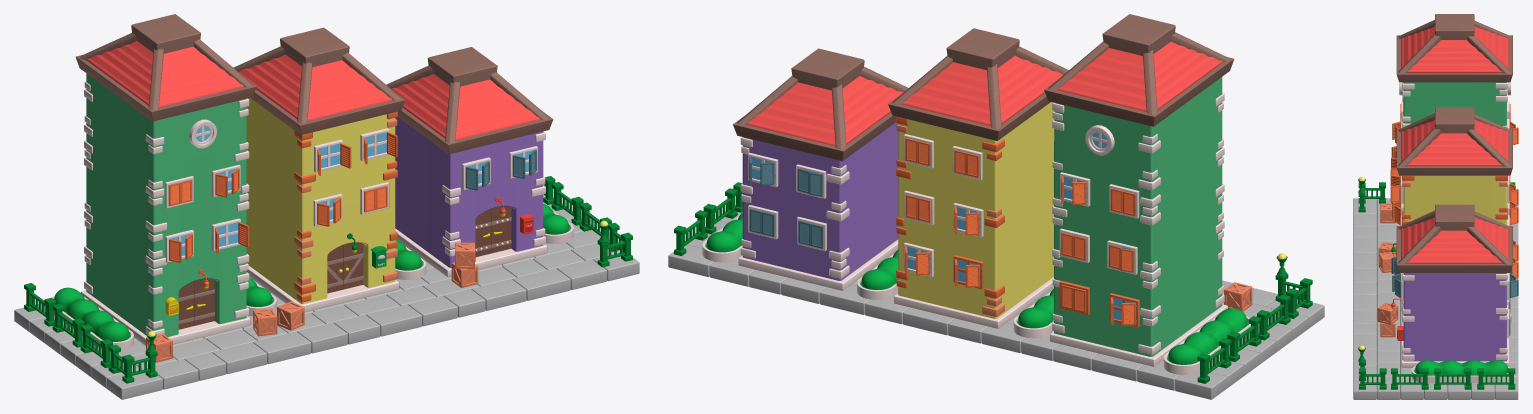
The model's file is City_Island_4.glb.
3 views of the same model, side by side, from view 1: azimuth 30°, elevation 25°; view 2: azimuth 150°, elevation 25°; view 3: azimuth 270°, elevation 25° (orthographic). The views are drawn at different scales.
Visible parts, largest first — view 1: City_4_House_1, City_4_House_3, City_4_House_2, City_4_Base_1, City_4_Plant_1, City_4_Fence_7, City_4_Fence_1, City_4_Plant_4, City_4_Plant_3, City_4_Plant_2, City_4_Fence_3, City_4_Fence_6 (+5 smaller); view 2: City_4_House_1, City_4_House_3, City_4_House_2, City_4_Base_1, City_4_Plant_1, City_4_Plant_3, City_4_Plant_4, City_4_Plant_2, City_4_Fence_7, City_4_Fence_2, City_4_Fence_5, City_4_Fence_6 (+3 smaller); view 3: City_4_House_2, City_4_House_3, City_4_House_1, City_4_Base_1, City_4_Plant_4, City_4_Fence_2, City_4_Fence_4, City_4_Fence_3, City_4_Fence_1, City_4_Fence_7, City_4_Box_1, City_4_Box_5 (+3 smaller).
Part boxes in pixels (x1,y1,x2,y2): City_4_House_1: (75, 14, 256, 345); City_4_House_3: (233, 27, 405, 312); City_4_House_2: (386, 47, 553, 277); City_4_Base_1: (14, 194, 639, 399); City_4_Plant_1: (51, 287, 133, 350); City_4_Fence_7: (108, 344, 157, 383); City_4_Fence_1: (597, 223, 632, 267); City_4_Plant_4: (543, 203, 573, 244); City_4_Plant_3: (395, 240, 426, 279); City_4_Plant_2: (246, 277, 276, 316); City_4_Fence_3: (551, 182, 583, 225); City_4_Fence_6: (52, 304, 84, 347); City_4_House_1: (1044, 14, 1234, 366); City_4_House_3: (888, 28, 1068, 328); City_4_House_2: (733, 48, 908, 291); City_4_Base_1: (668, 212, 1324, 399); City_4_Plant_1: (1164, 308, 1250, 374); City_4_Plant_3: (857, 249, 898, 299); City_4_Plant_4: (702, 212, 742, 262); City_4_Plant_2: (1013, 289, 1053, 338); City_4_Fence_7: (1275, 274, 1312, 318); City_4_Fence_2: (674, 210, 707, 256); City_4_Fence_5: (1257, 294, 1290, 340); City_4_Fence_6: (1227, 316, 1261, 361); City_4_House_2: (1391, 204, 1518, 367); City_4_House_3: (1390, 107, 1518, 311); City_4_House_1: (1390, 14, 1518, 205); City_4_Base_1: (1353, 198, 1518, 399); City_4_Plant_4: (1411, 360, 1510, 382); City_4_Fence_2: (1477, 368, 1515, 389); City_4_Fence_4: (1391, 368, 1428, 389); City_4_Fence_3: (1434, 368, 1471, 389); City_4_Fence_1: (1359, 360, 1386, 389); City_4_Fence_7: (1358, 182, 1385, 212); City_4_Box_1: (1377, 302, 1398, 324); City_4_Box_5: (1378, 252, 1395, 272).
Bounding box in the file's own units: 28.24 × 15.42 × 10.21.
29 materials, 29 textured.
